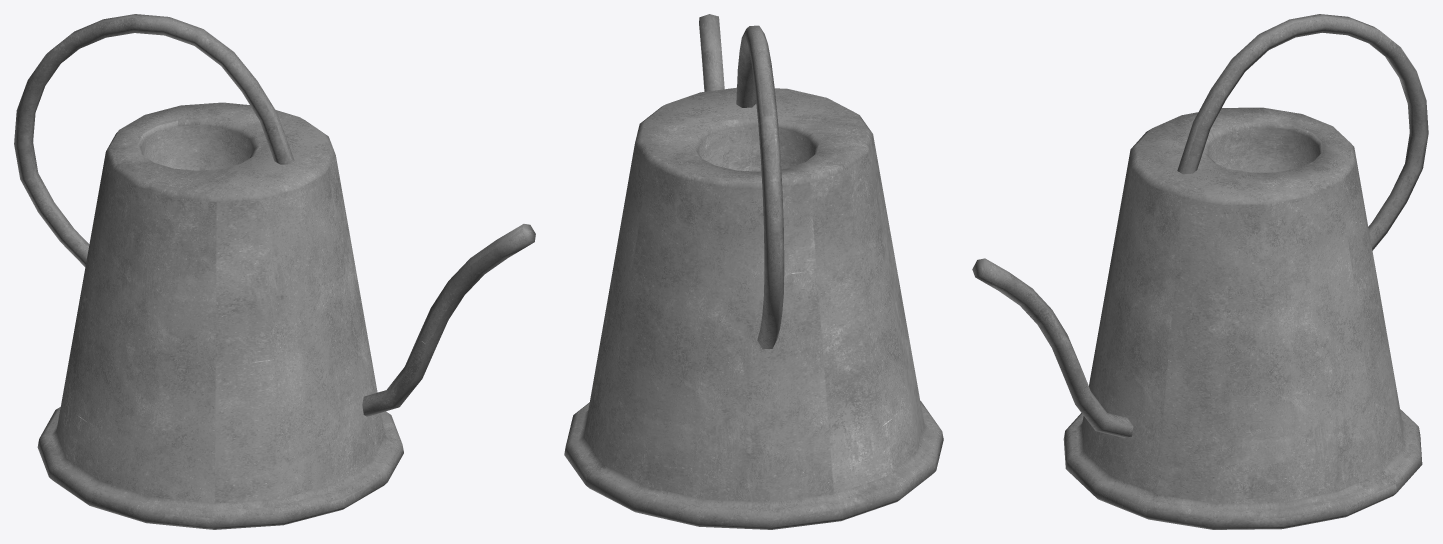
Rendered from konewka.fbx.
3 views of the same model, side by side, from view 1: azimuth 30°, elevation 25°; view 2: azimuth 150°, elevation 25°; view 3: azimuth 270°, elevation 25° (orthographic). The views are drawn at different scales.
Visible parts, largest first — view 1: Cylinder.001; view 2: Cylinder.001; view 3: Cylinder.001.
Boxes of the visible parts, <box> form: Cylinder.001: <box>14,14,535,529</box>; Cylinder.001: <box>564,14,943,529</box>; Cylinder.001: <box>972,14,1428,529</box>.
Size of the model in its own units: 234 by 279 by 274.
1 material, 1 textured.
